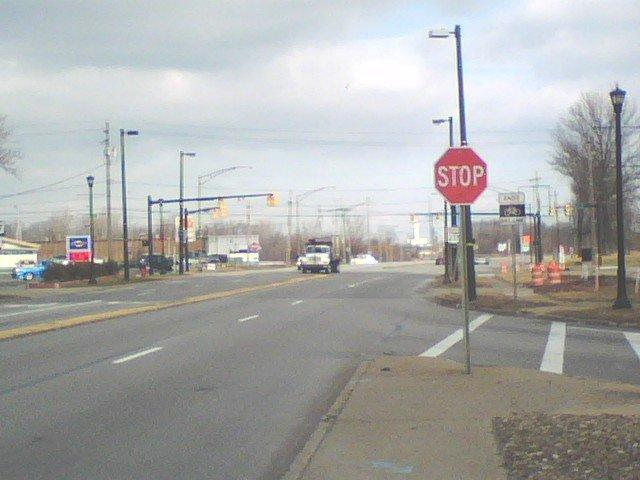Pole: (460, 210, 471, 377), (511, 223, 519, 304)
Sign: (434, 147, 488, 206)
